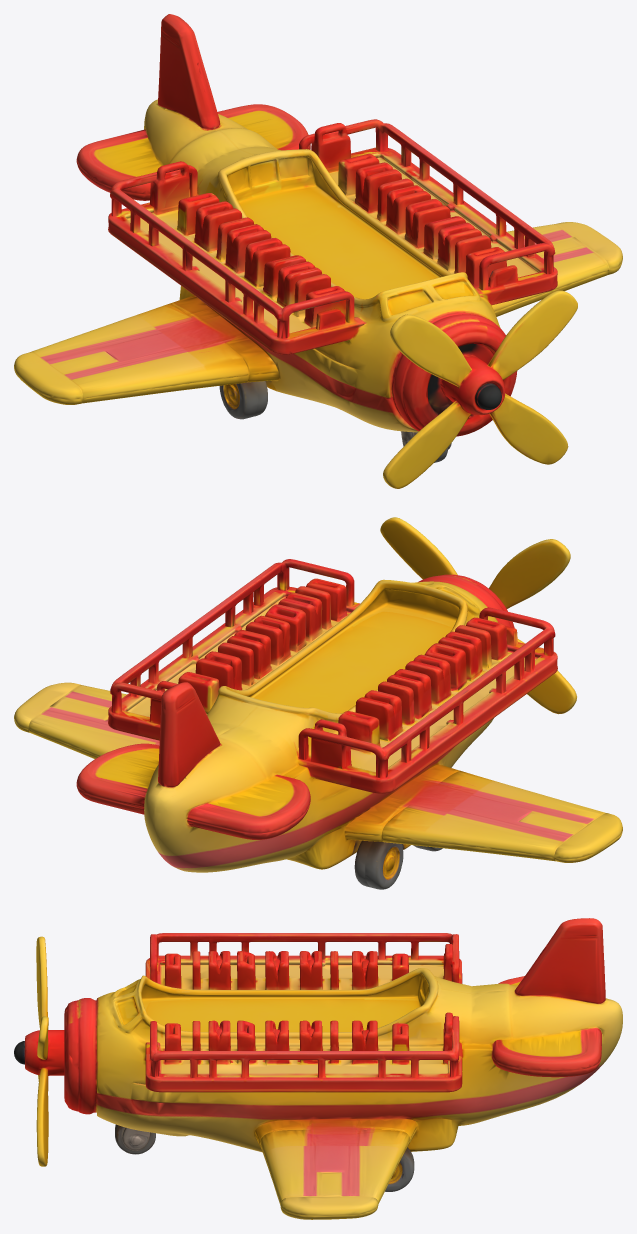
Rendered from toy_plane.glb.
The picture shows the model from 3 angles, top to bottom: view 1: azimuth 30°, elevation 25°; view 2: azimuth 150°, elevation 25°; view 3: azimuth 270°, elevation 25°; orthographic projection. The views are drawn at different scales.
Parts seen in each view (by area): view 1: node_0; view 2: node_0; view 3: node_0.
Part boxes in pixels (bbox=[...]): node_0: bbox=[14, 14, 622, 488]; node_0: bbox=[14, 517, 622, 889]; node_0: bbox=[14, 918, 622, 1219].
Bounding box in the file's own units: 1.16 × 0.4963 × 1.18.
Materials: 1 (1 with a texture image).
